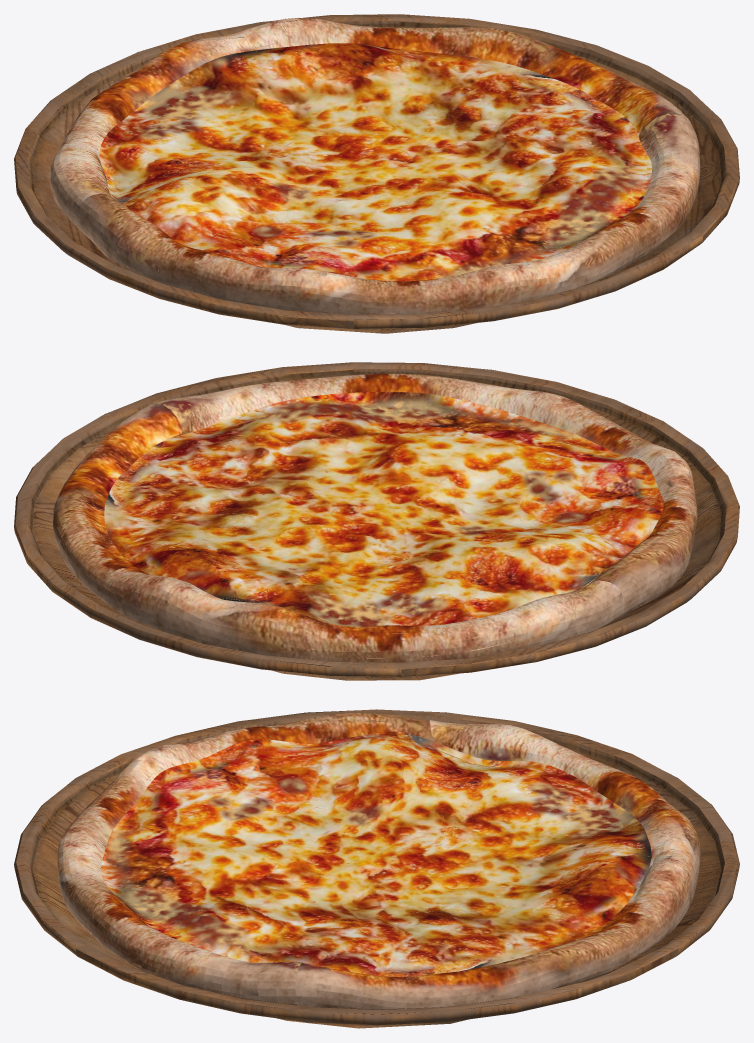
File: pizza.glb
3 renders of one model, top to bottom at view 1: azimuth 30°, elevation 25°; view 2: azimuth 150°, elevation 25°; view 3: azimuth 270°, elevation 25°, orthographic.
Parts seen in each view (by area): view 1: piza_low_01:Group259; view 2: piza_low_01:Group259; view 3: piza_low_01:Group259.
Boxes of the visible parts, box(x1,y1,x2,y2) form: piza_low_01:Group259: box(14, 14, 739, 333); piza_low_01:Group259: box(14, 362, 739, 680); piza_low_01:Group259: box(14, 709, 739, 1028).
Bounding box in the file's own units: 0.7141 × 0.1075 × 0.7141.
Materials: 2 (2 with a texture image).
